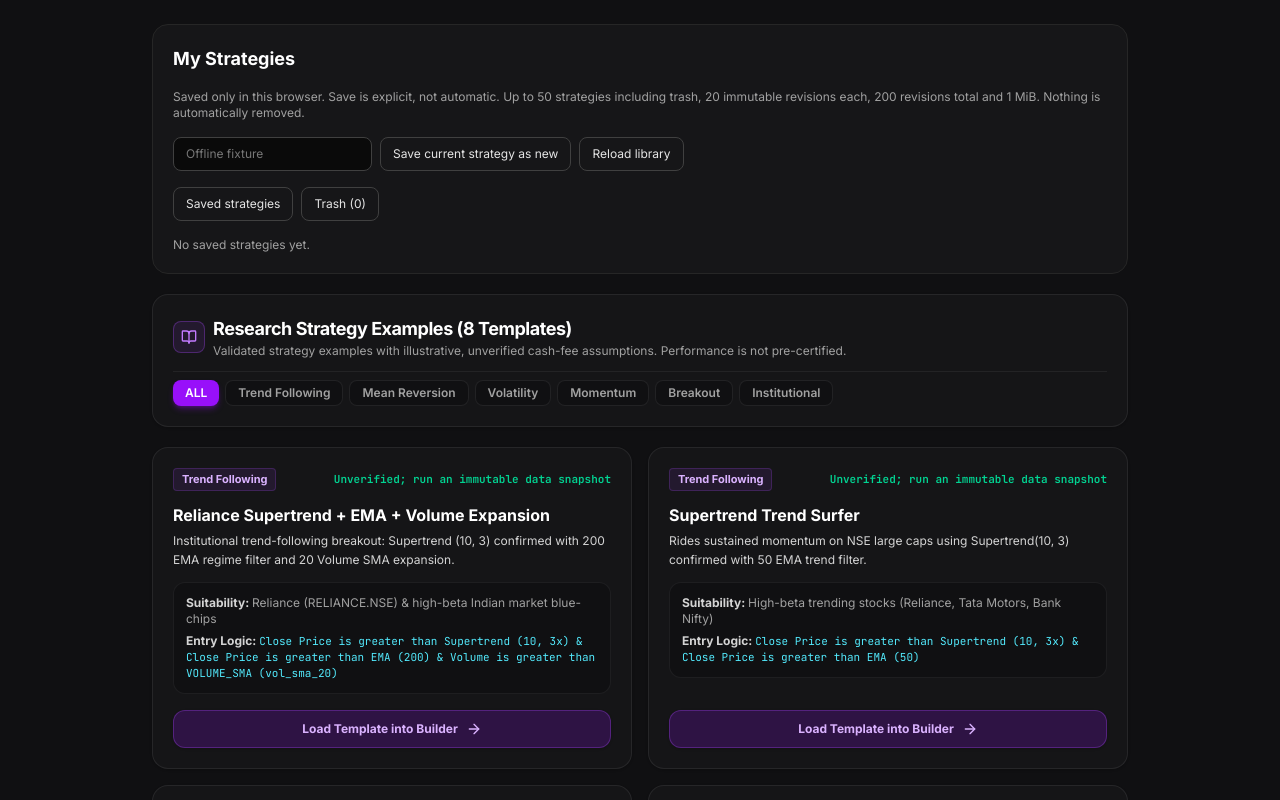
Test case: My Strategies alongside immutable templates › reports quota failure as not saved, with no success state or phantom strategy
Click the button "Save current strategy as new" at (476, 154), box x1=380 y1=137 x2=572 y2=171
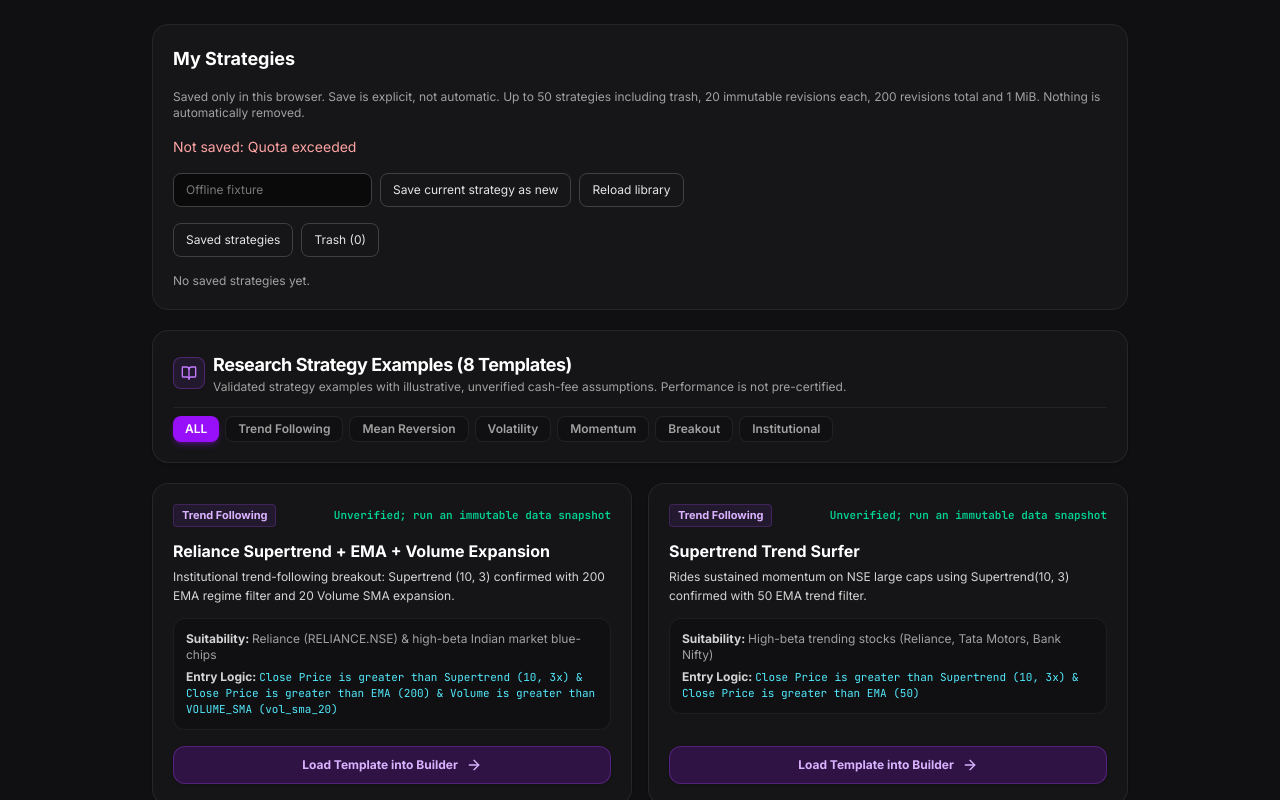
Check: the message reads "Not saved: Quota exceeded", box x1=173 y1=138 x2=356 y2=155
